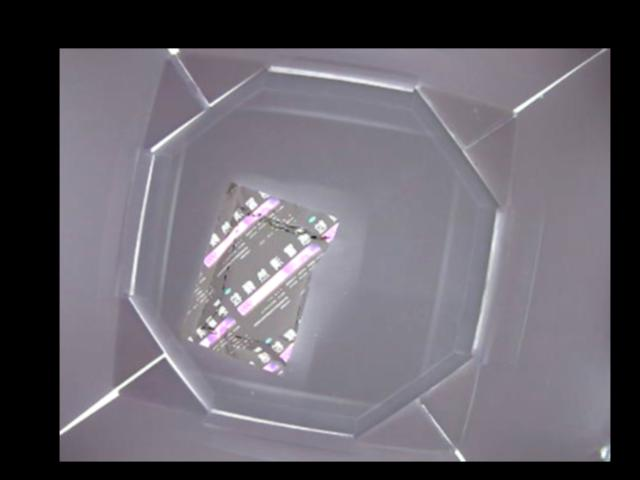Medicine: (179, 179, 342, 377)
